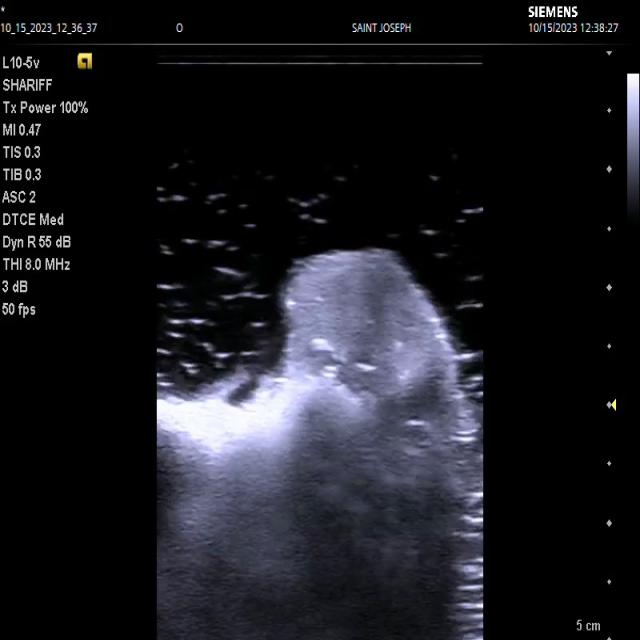tissue: (157, 250, 472, 640)
